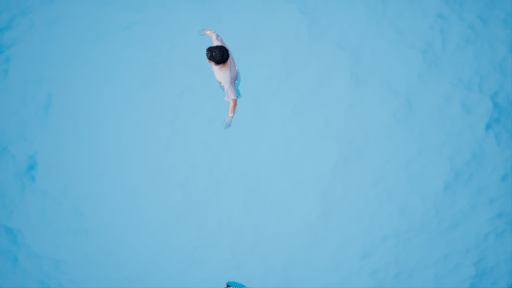person: (189, 22, 252, 131)
